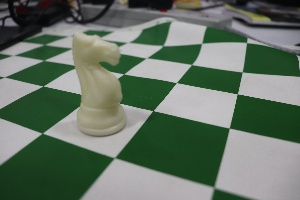white_horse: (58, 21, 130, 147)
